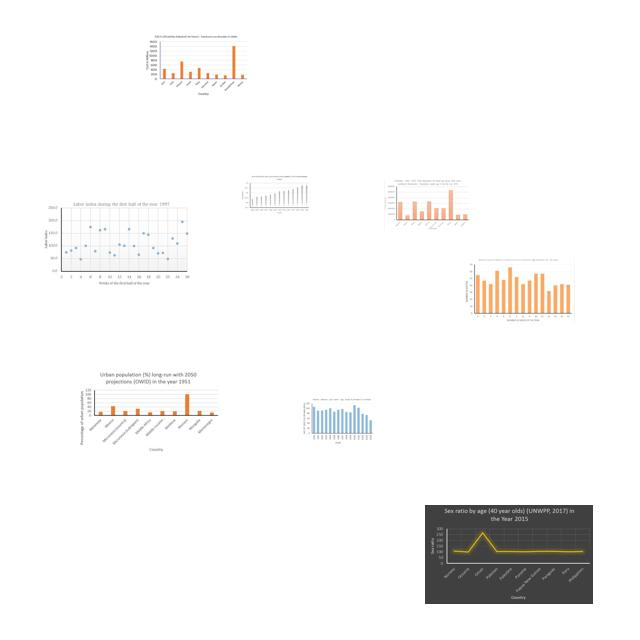Graph: (425, 505, 593, 604), (43, 200, 190, 286), (76, 370, 221, 455), (463, 257, 575, 325), (144, 34, 249, 98), (384, 179, 470, 230), (301, 397, 374, 445), (240, 174, 310, 215)
